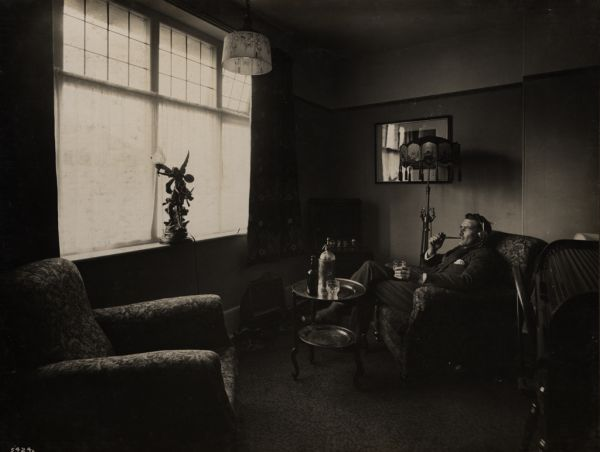unknown_bottle: (318, 240, 336, 289), (306, 256, 319, 295)
